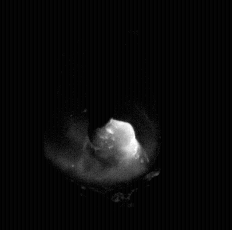arame: (89, 0, 114, 141)
poca: (45, 0, 155, 230)
